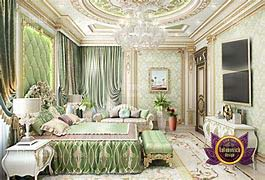copymove: (221, 37, 251, 71)
removal: (94, 69, 108, 109)
spliced: (168, 108, 178, 132)
